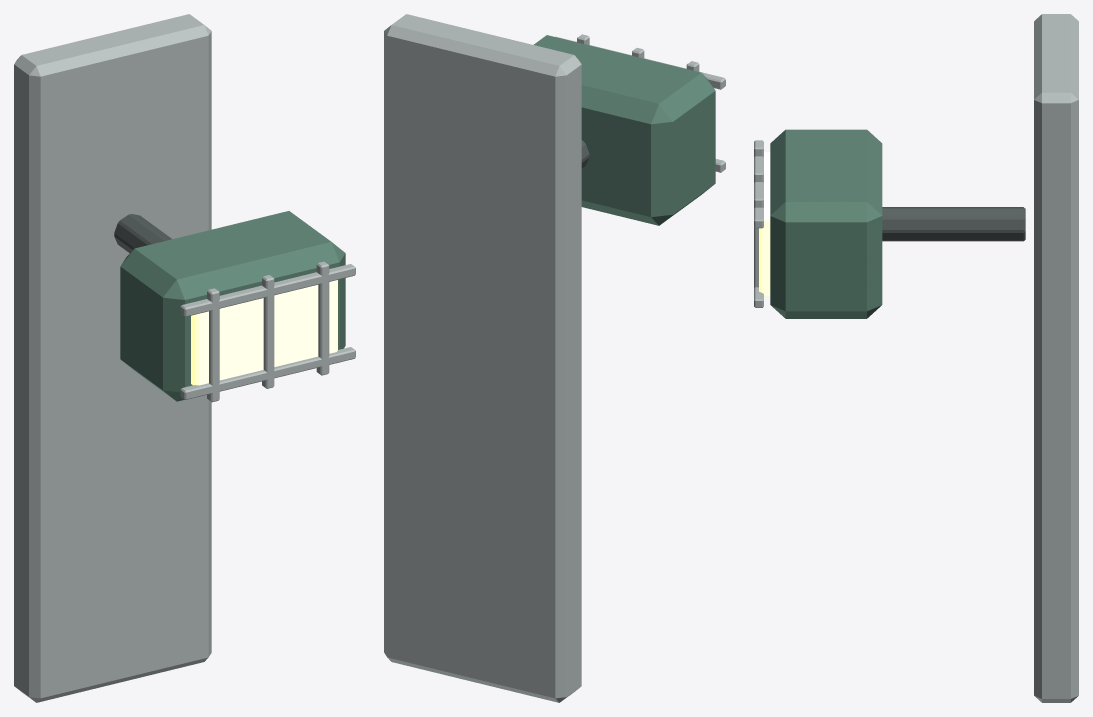
Rendered from runtime.glb.
The picture shows the model from 3 angles, left to right: view 1: azimuth 30°, elevation 25°; view 2: azimuth 150°, elevation 25°; view 3: azimuth 270°, elevation 25°; orthographic projection. The views are drawn at different scales.
Parts seen in each view (by area): view 1: reactor-maintenance-light-v01_nocol; view 2: reactor-maintenance-light-v01_nocol; view 3: reactor-maintenance-light-v01_nocol.
Boxes of the visible parts, bbox=[...] form: reactor-maintenance-light-v01_nocol: bbox=[14, 14, 355, 702]; reactor-maintenance-light-v01_nocol: bbox=[384, 14, 725, 702]; reactor-maintenance-light-v01_nocol: bbox=[754, 14, 1078, 702].
Size of the model in its own units: 0.72 by 2.4 by 1.16.
